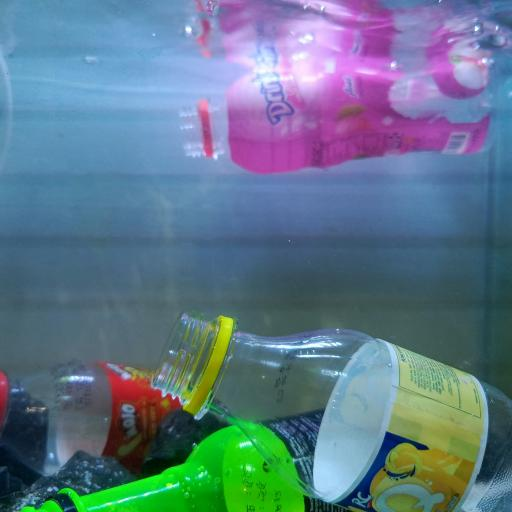plastic_bottle: (151, 299, 511, 512), (188, 60, 493, 171), (33, 412, 325, 512), (0, 362, 234, 468)
